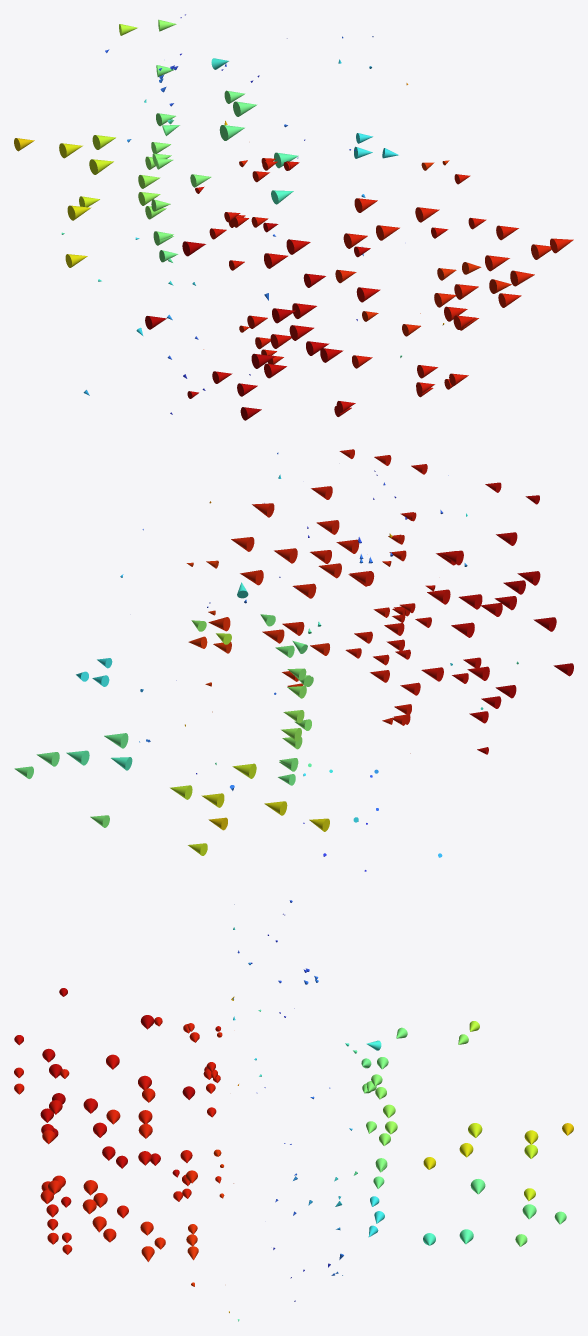
The model's file is LineasCorrienteH2-O2_mh2-6.88_V-1.glb.
3 views of the same model, one above another, from view 1: azimuth 30°, elevation 25°; view 2: azimuth 150°, elevation 25°; view 3: azimuth 270°, elevation 25° (orthographic). The views are drawn at different scales.
Bounding box in the file's own units: 0.000893 × 0.00087 × 0.00123.
Materials: 2 (2 with a texture image).
